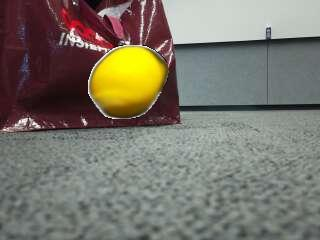lemon: (93, 47, 169, 117)
